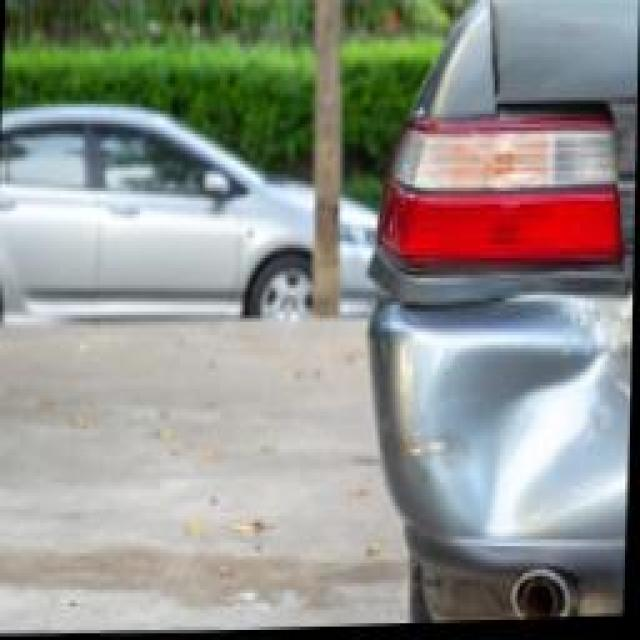Bumper: (383, 286, 630, 548)
